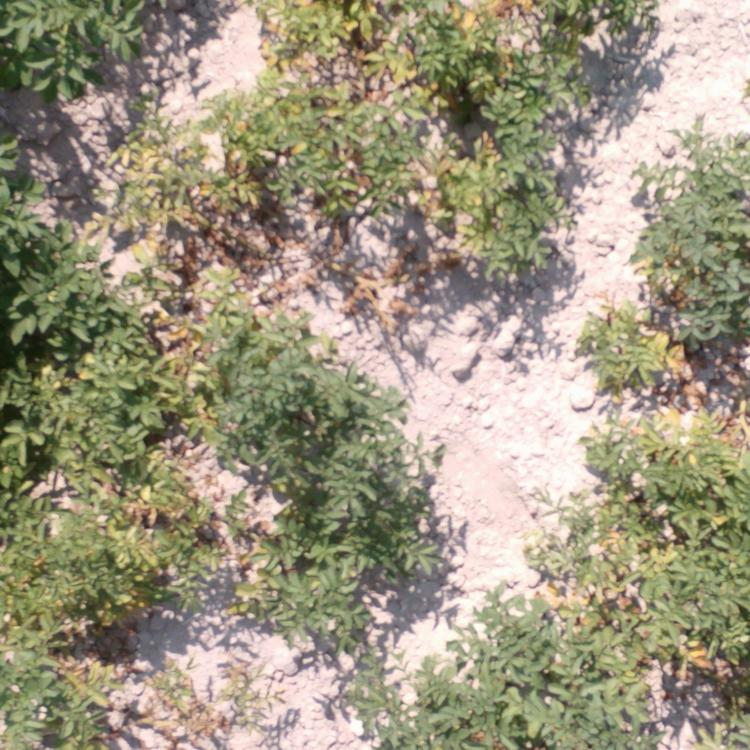healthy: (247, 355, 423, 623), (5, 200, 129, 446), (445, 630, 613, 747), (652, 144, 743, 280), (3, 1, 137, 66)
stressed: (569, 432, 747, 605), (135, 138, 238, 421), (41, 456, 196, 607), (275, 1, 558, 83), (231, 95, 402, 220), (599, 295, 746, 420), (428, 98, 519, 272), (4, 617, 113, 742), (636, 624, 732, 695)
